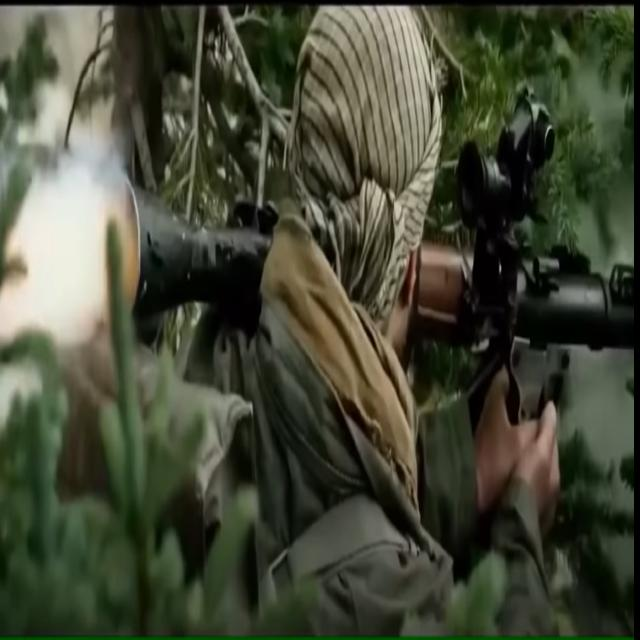bazooka: (84, 58, 640, 417)
